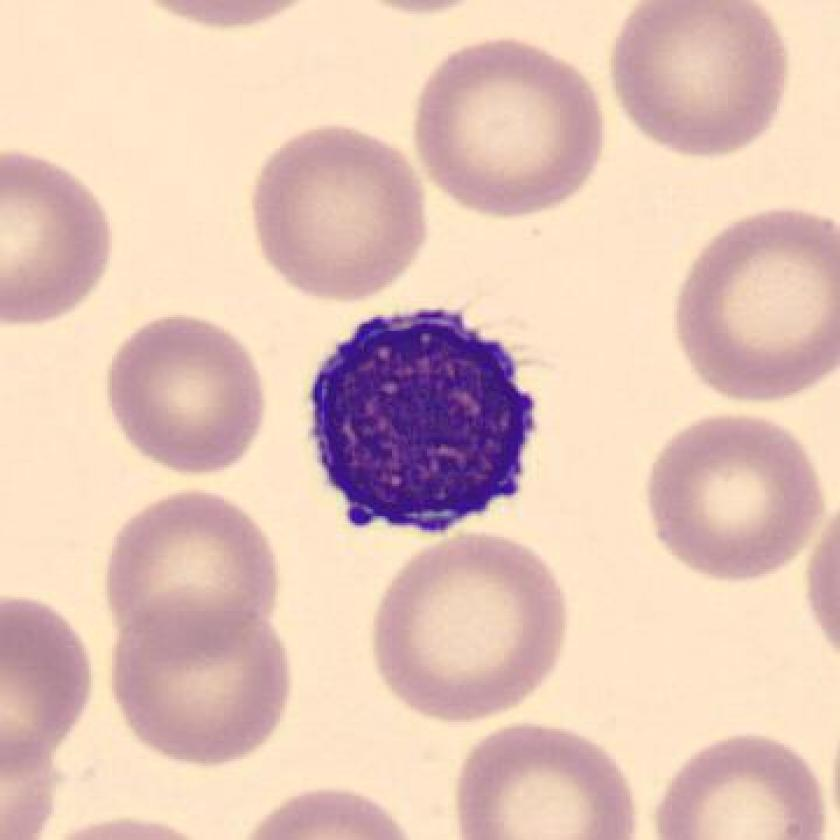lymphocyte: (286, 284, 556, 557)
